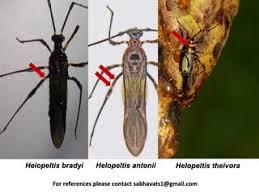Helopeltis-insect: (119, 25, 151, 158), (43, 32, 77, 151), (181, 36, 200, 93)
